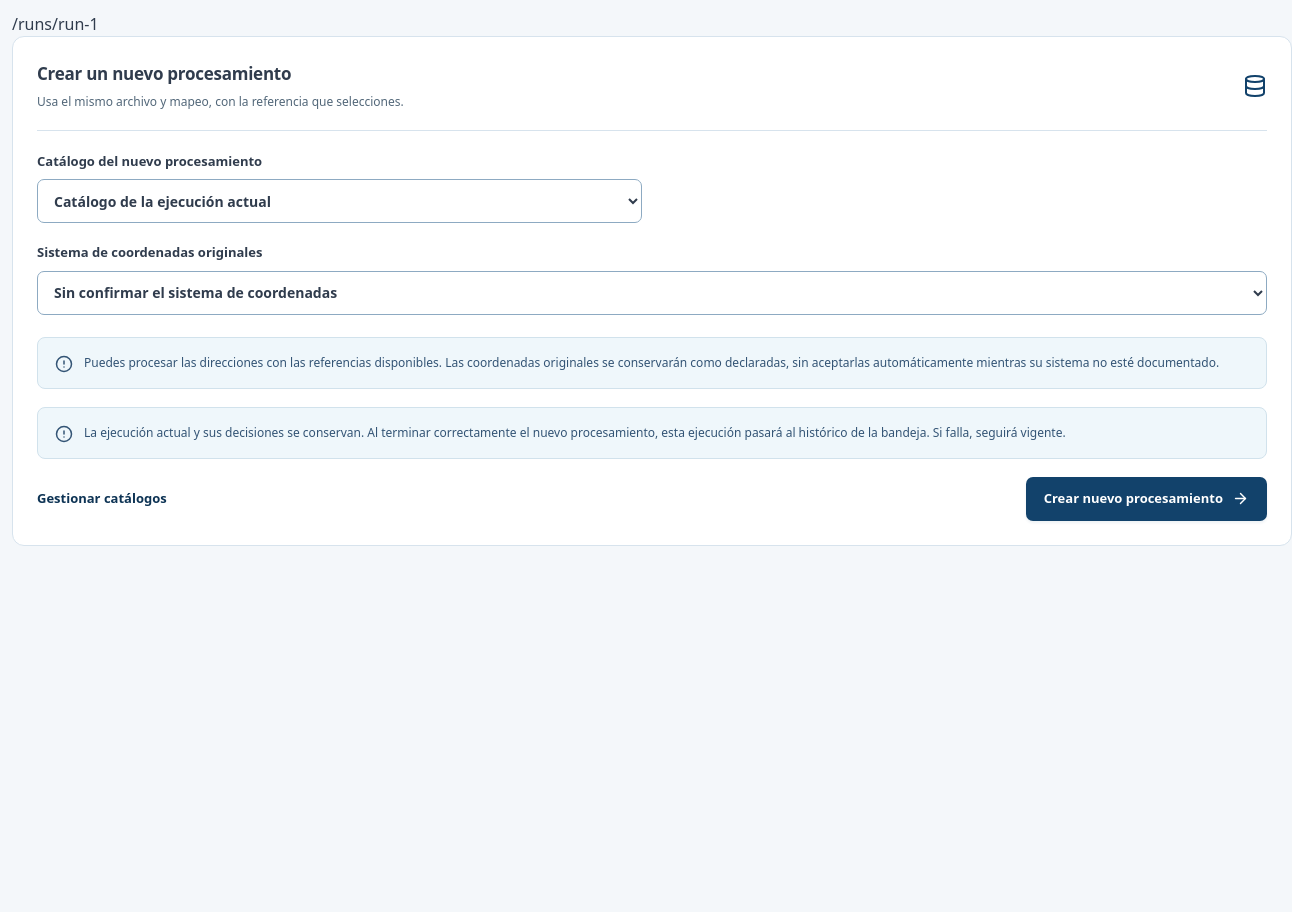
reference-aware reprocessing › creates a new execution with reference ref-2 and CRS choice unconfirmed
The width and height of the screenshot is (1292, 912).
Select "Catálogo sintético · v2" in the dropdown labelled "Catálogo del nuevo procesamiento" at (340, 201), box [37,179,642,223]
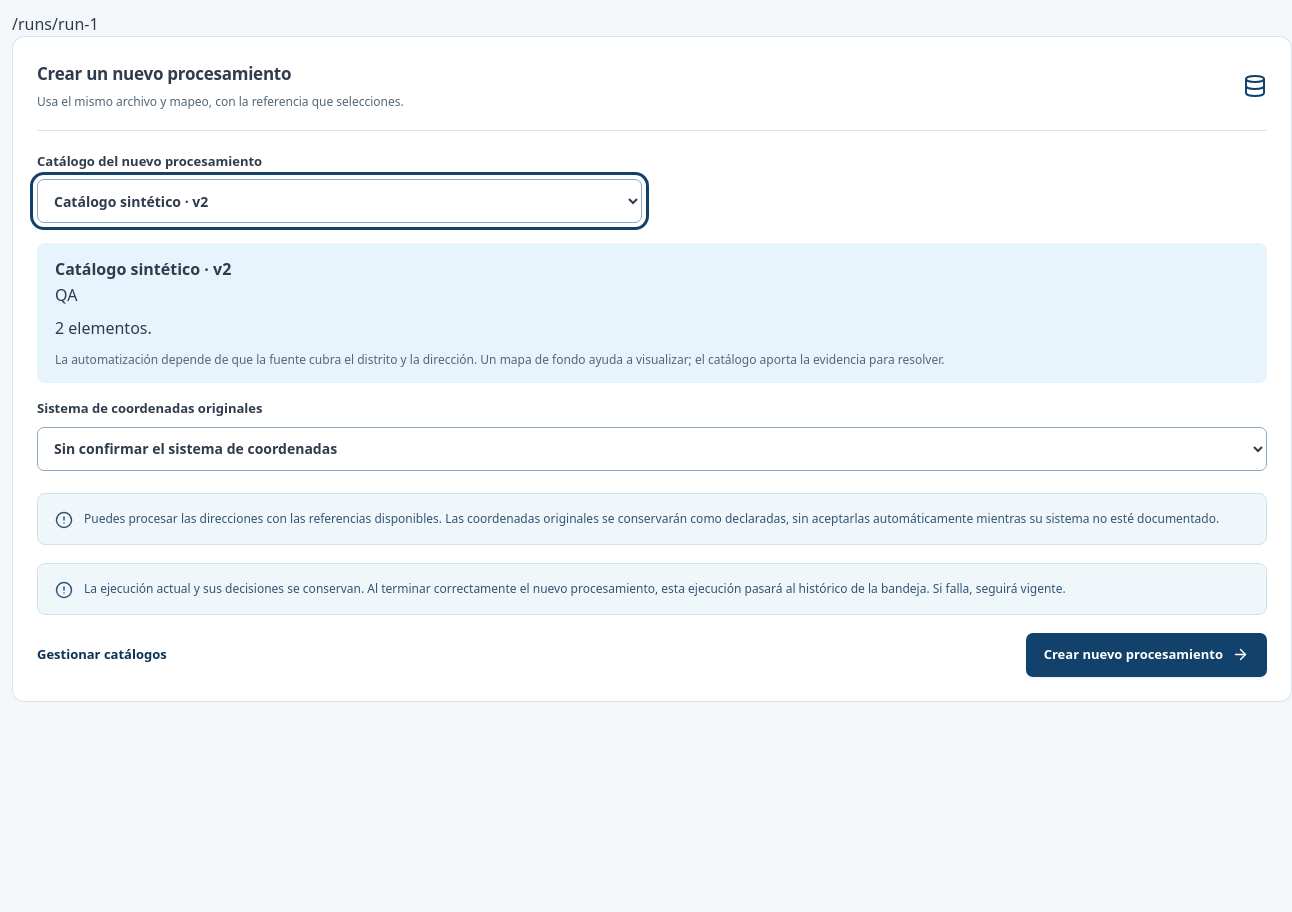
Select "Sin confirmar el sistema de coordenadas" in the dropdown labelled "Sistema de coordenadas originales" at (652, 449), box [37,427,1267,471]
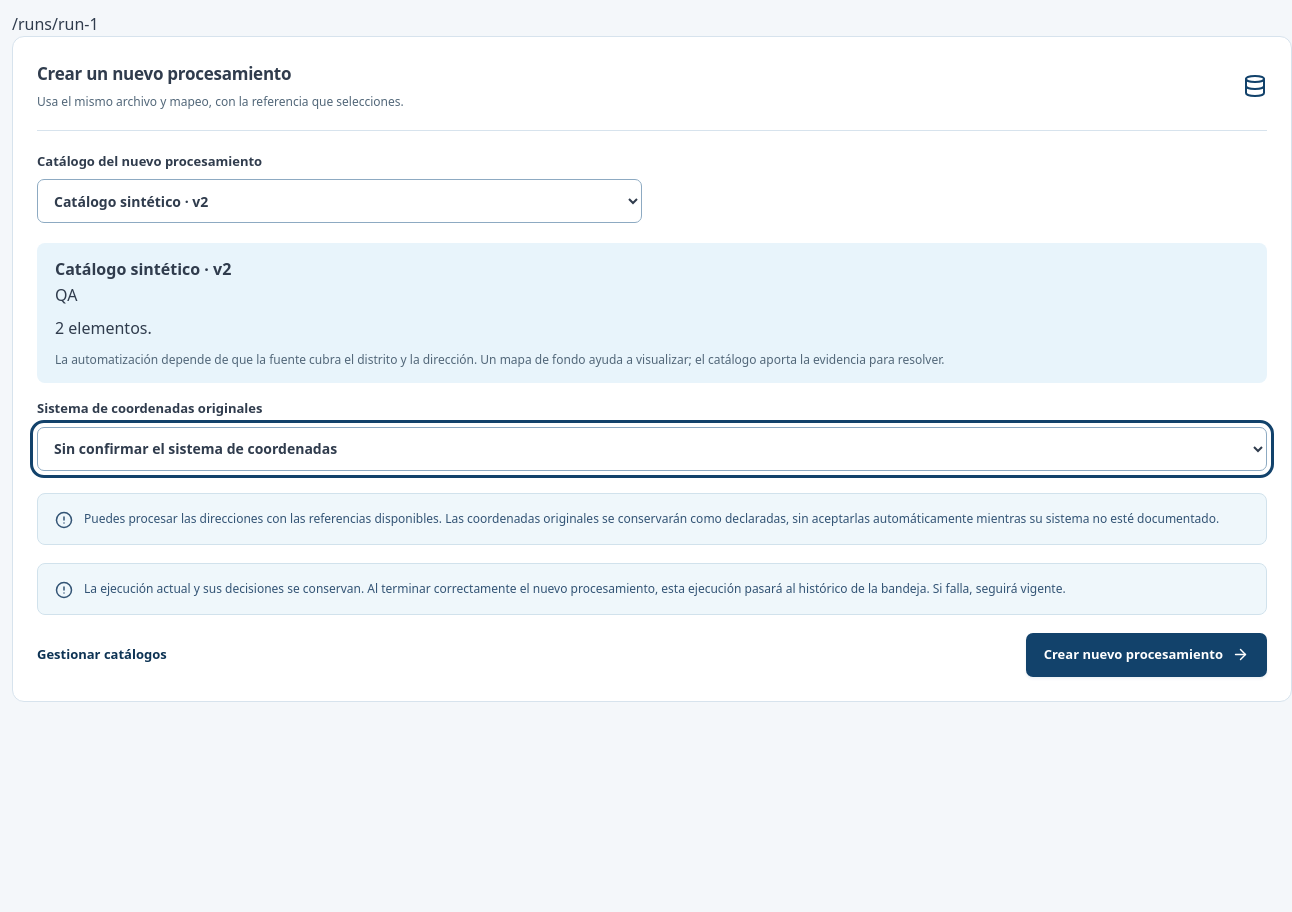
Click the button "Crear nuevo procesamiento" at (1146, 655), box [1026,633,1267,677]
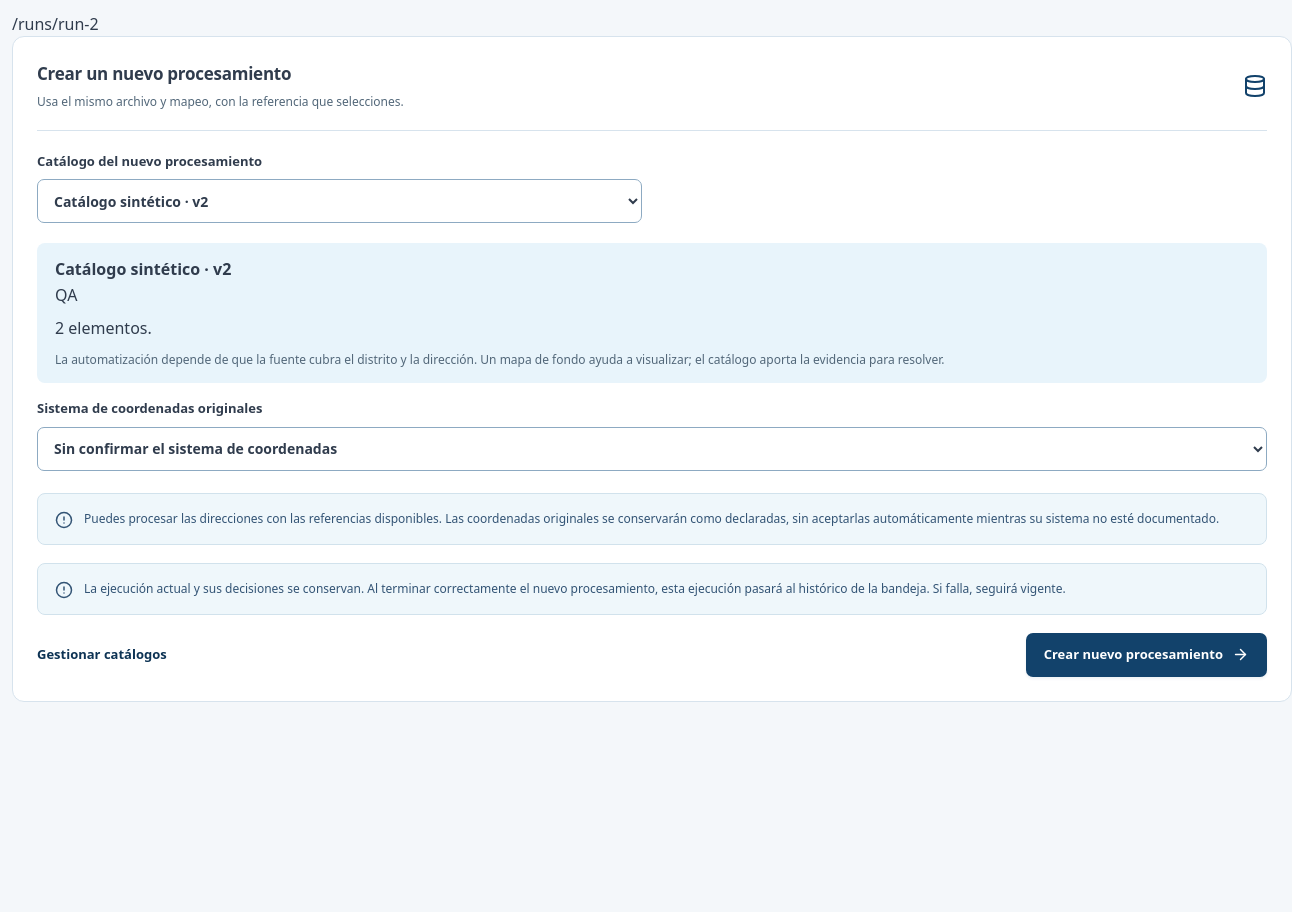
Expected: the text with test id "path" reads "/runs/run-2", [12,13,99,35]
